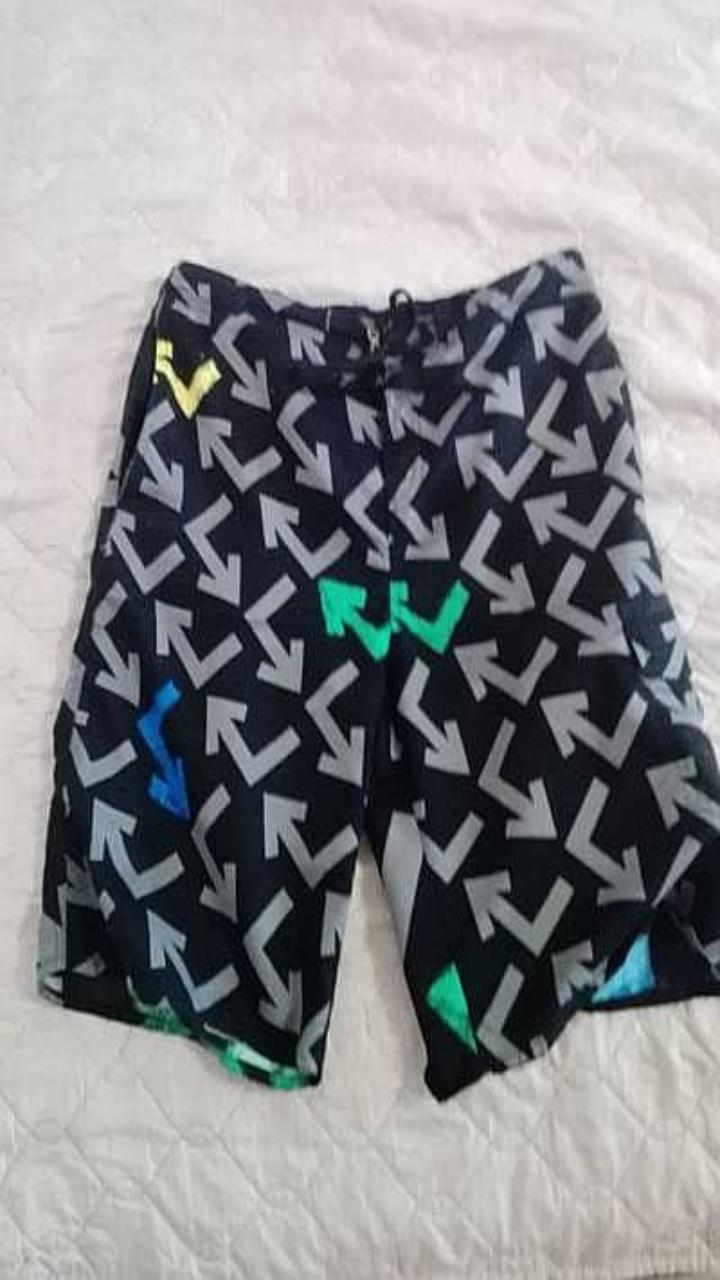Shorts: (38, 248, 719, 1098)
